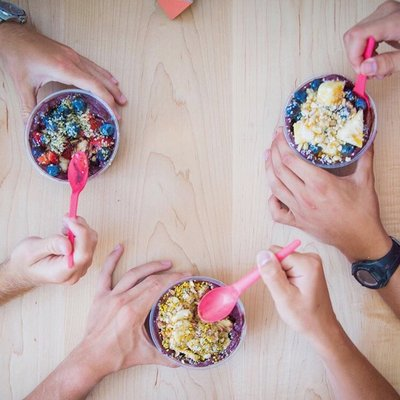salad: (197, 241, 303, 323)
sushi: (154, 276, 247, 368)
